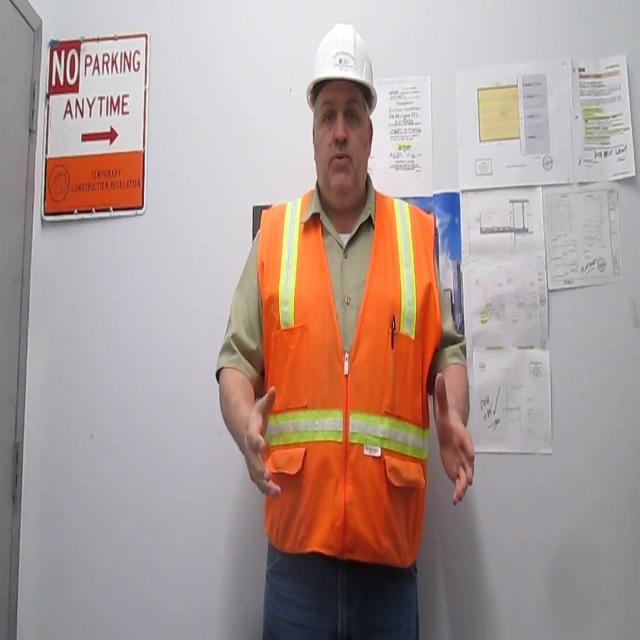Vest: (258, 184, 442, 571)
